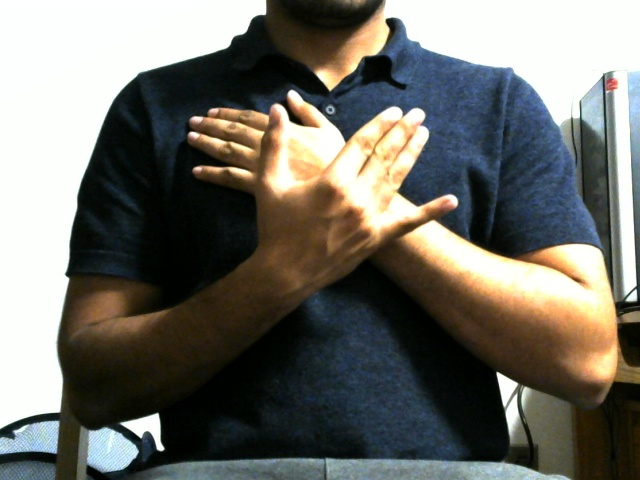blood: (162, 67, 492, 300)
